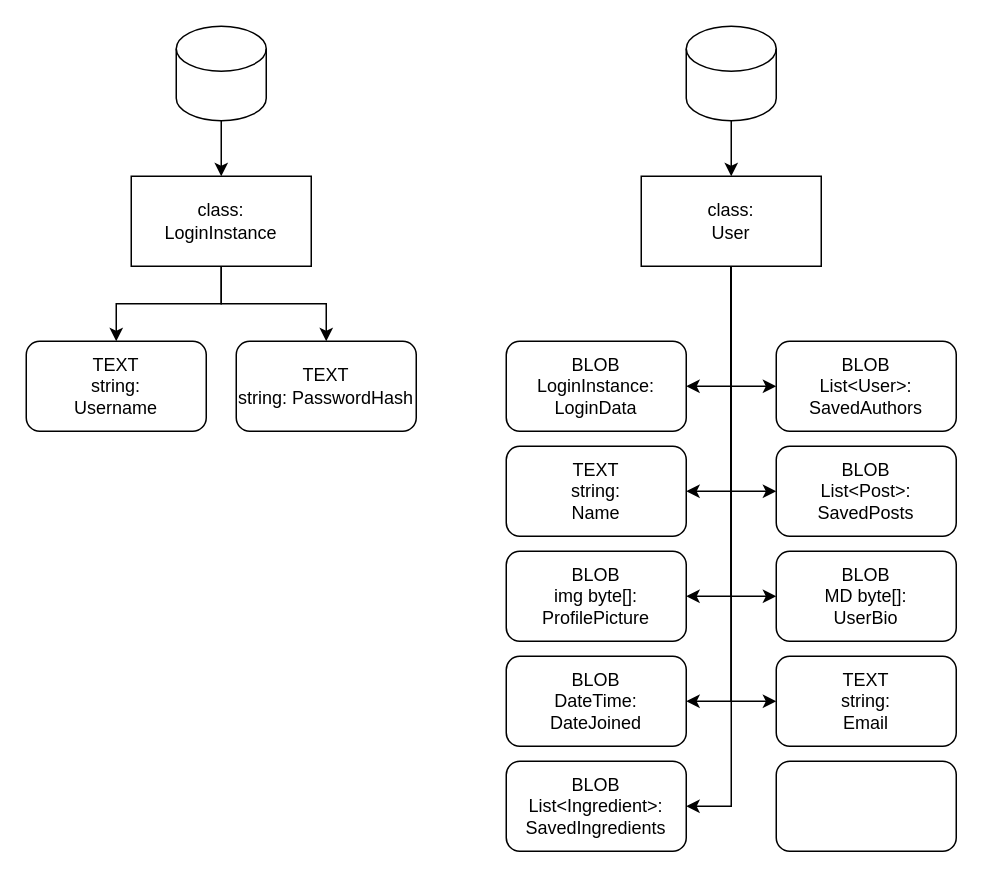
This 983x878 diagram has some shape labels left out. The shapes that lost their labels are listed below. From the top down, each one's centre as x and y in pixels, then its label:
At pixel 220 73: "Login Data".
At pixel 730 73: "User Data".
